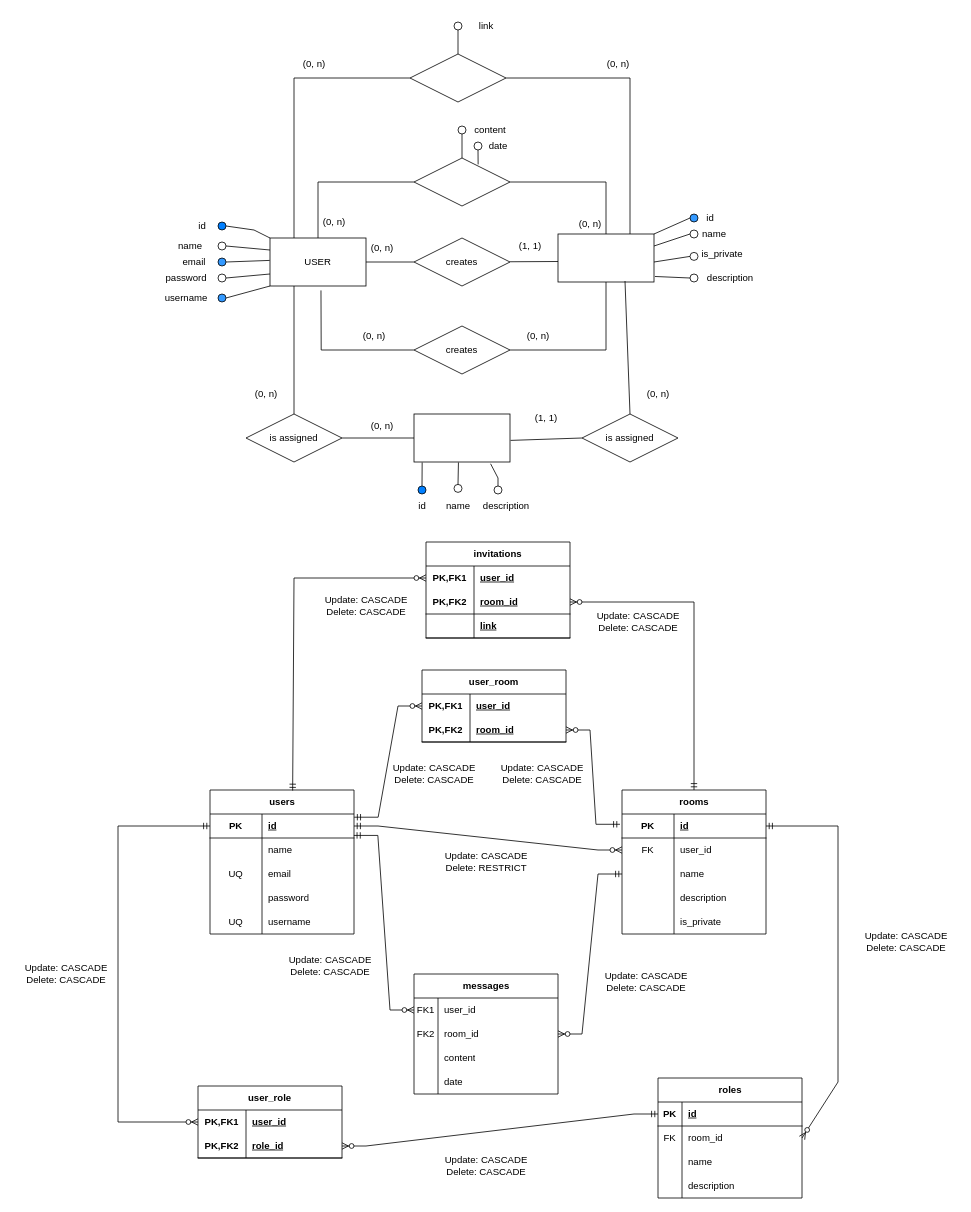
Image size: 971x1212. Some labels were removed from this diagram. The centre of each missing label's shape, as x and y in pixels:
"is invited" goes at point 457,77.
"ROLE" goes at point 461,437.
"ROOM" goes at point 605,257.
"sends message" goes at point 461,181.
